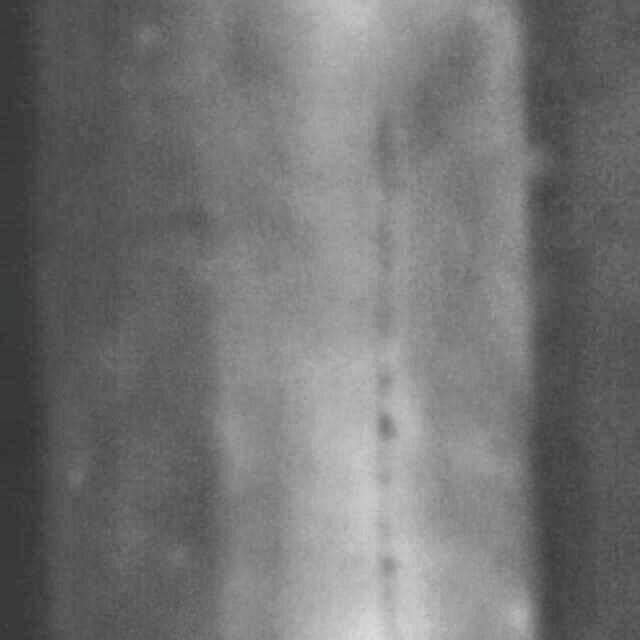LoP-LoF: (340, 36, 441, 621)
